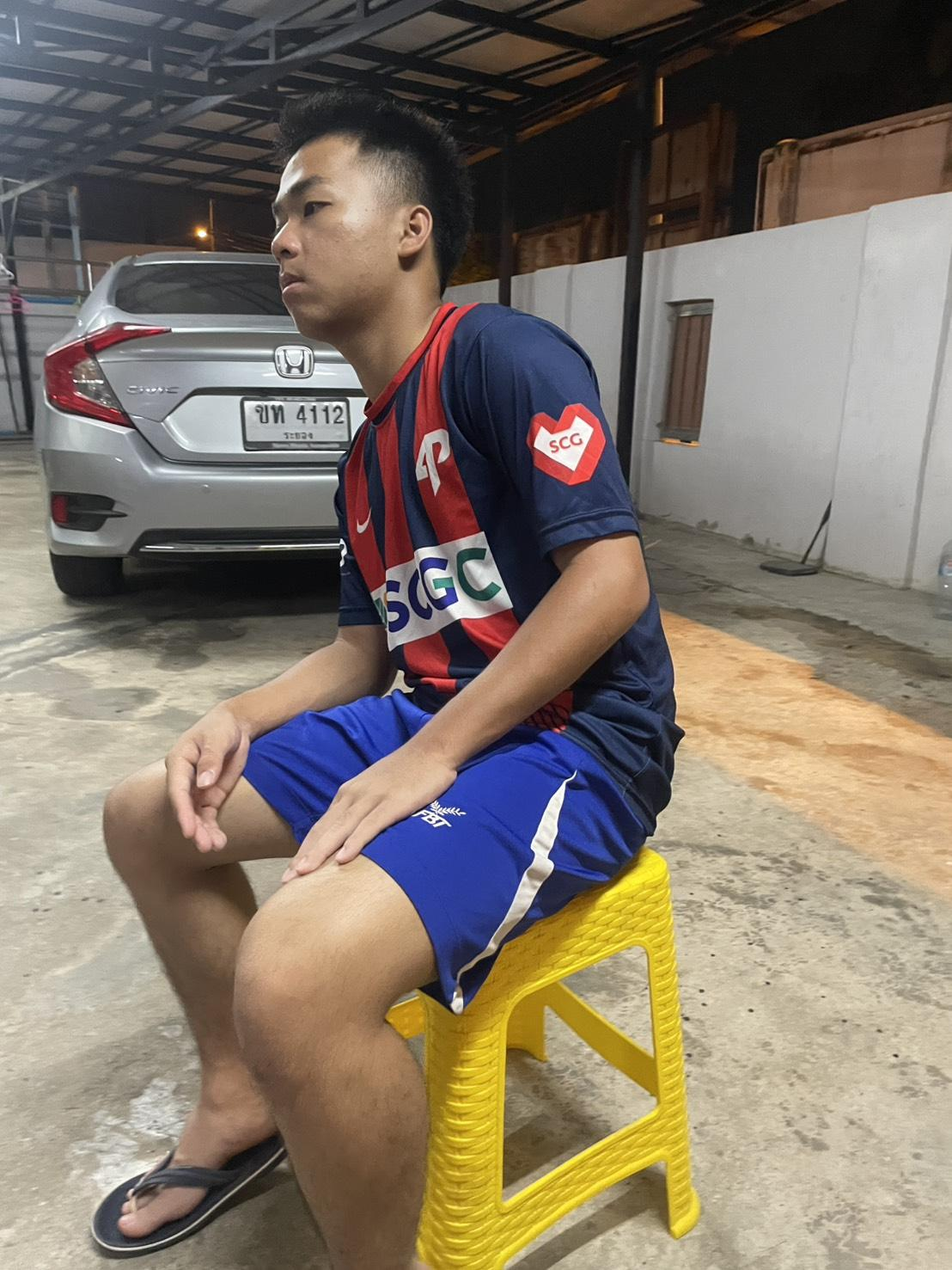BadPosture: (103, 91, 682, 983)
